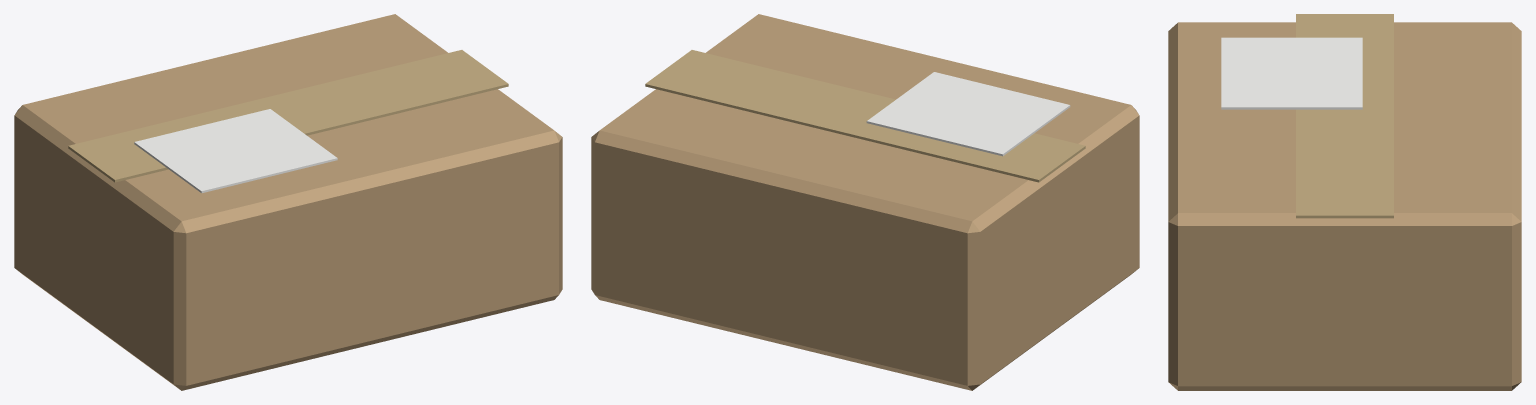
File: tsorter_parcel_box_xs.fbx
3 renders of one model, left to right at view 1: azimuth 30°, elevation 25°; view 2: azimuth 150°, elevation 25°; view 3: azimuth 270°, elevation 25°, orthographic. The views are drawn at different scales.
Visible parts, largest first — view 1: Parcel_box_xs; view 2: Parcel_box_xs; view 3: Parcel_box_xs.
Boxes of the visible parts, x1=… form: Parcel_box_xs: x1=14, y1=14, x2=562, y2=390; Parcel_box_xs: x1=591, y1=14, x2=1139, y2=390; Parcel_box_xs: x1=1168, y1=14, x2=1521, y2=390.
Bounding box in the file's own units: 0.243 × 0.103 × 0.18.
